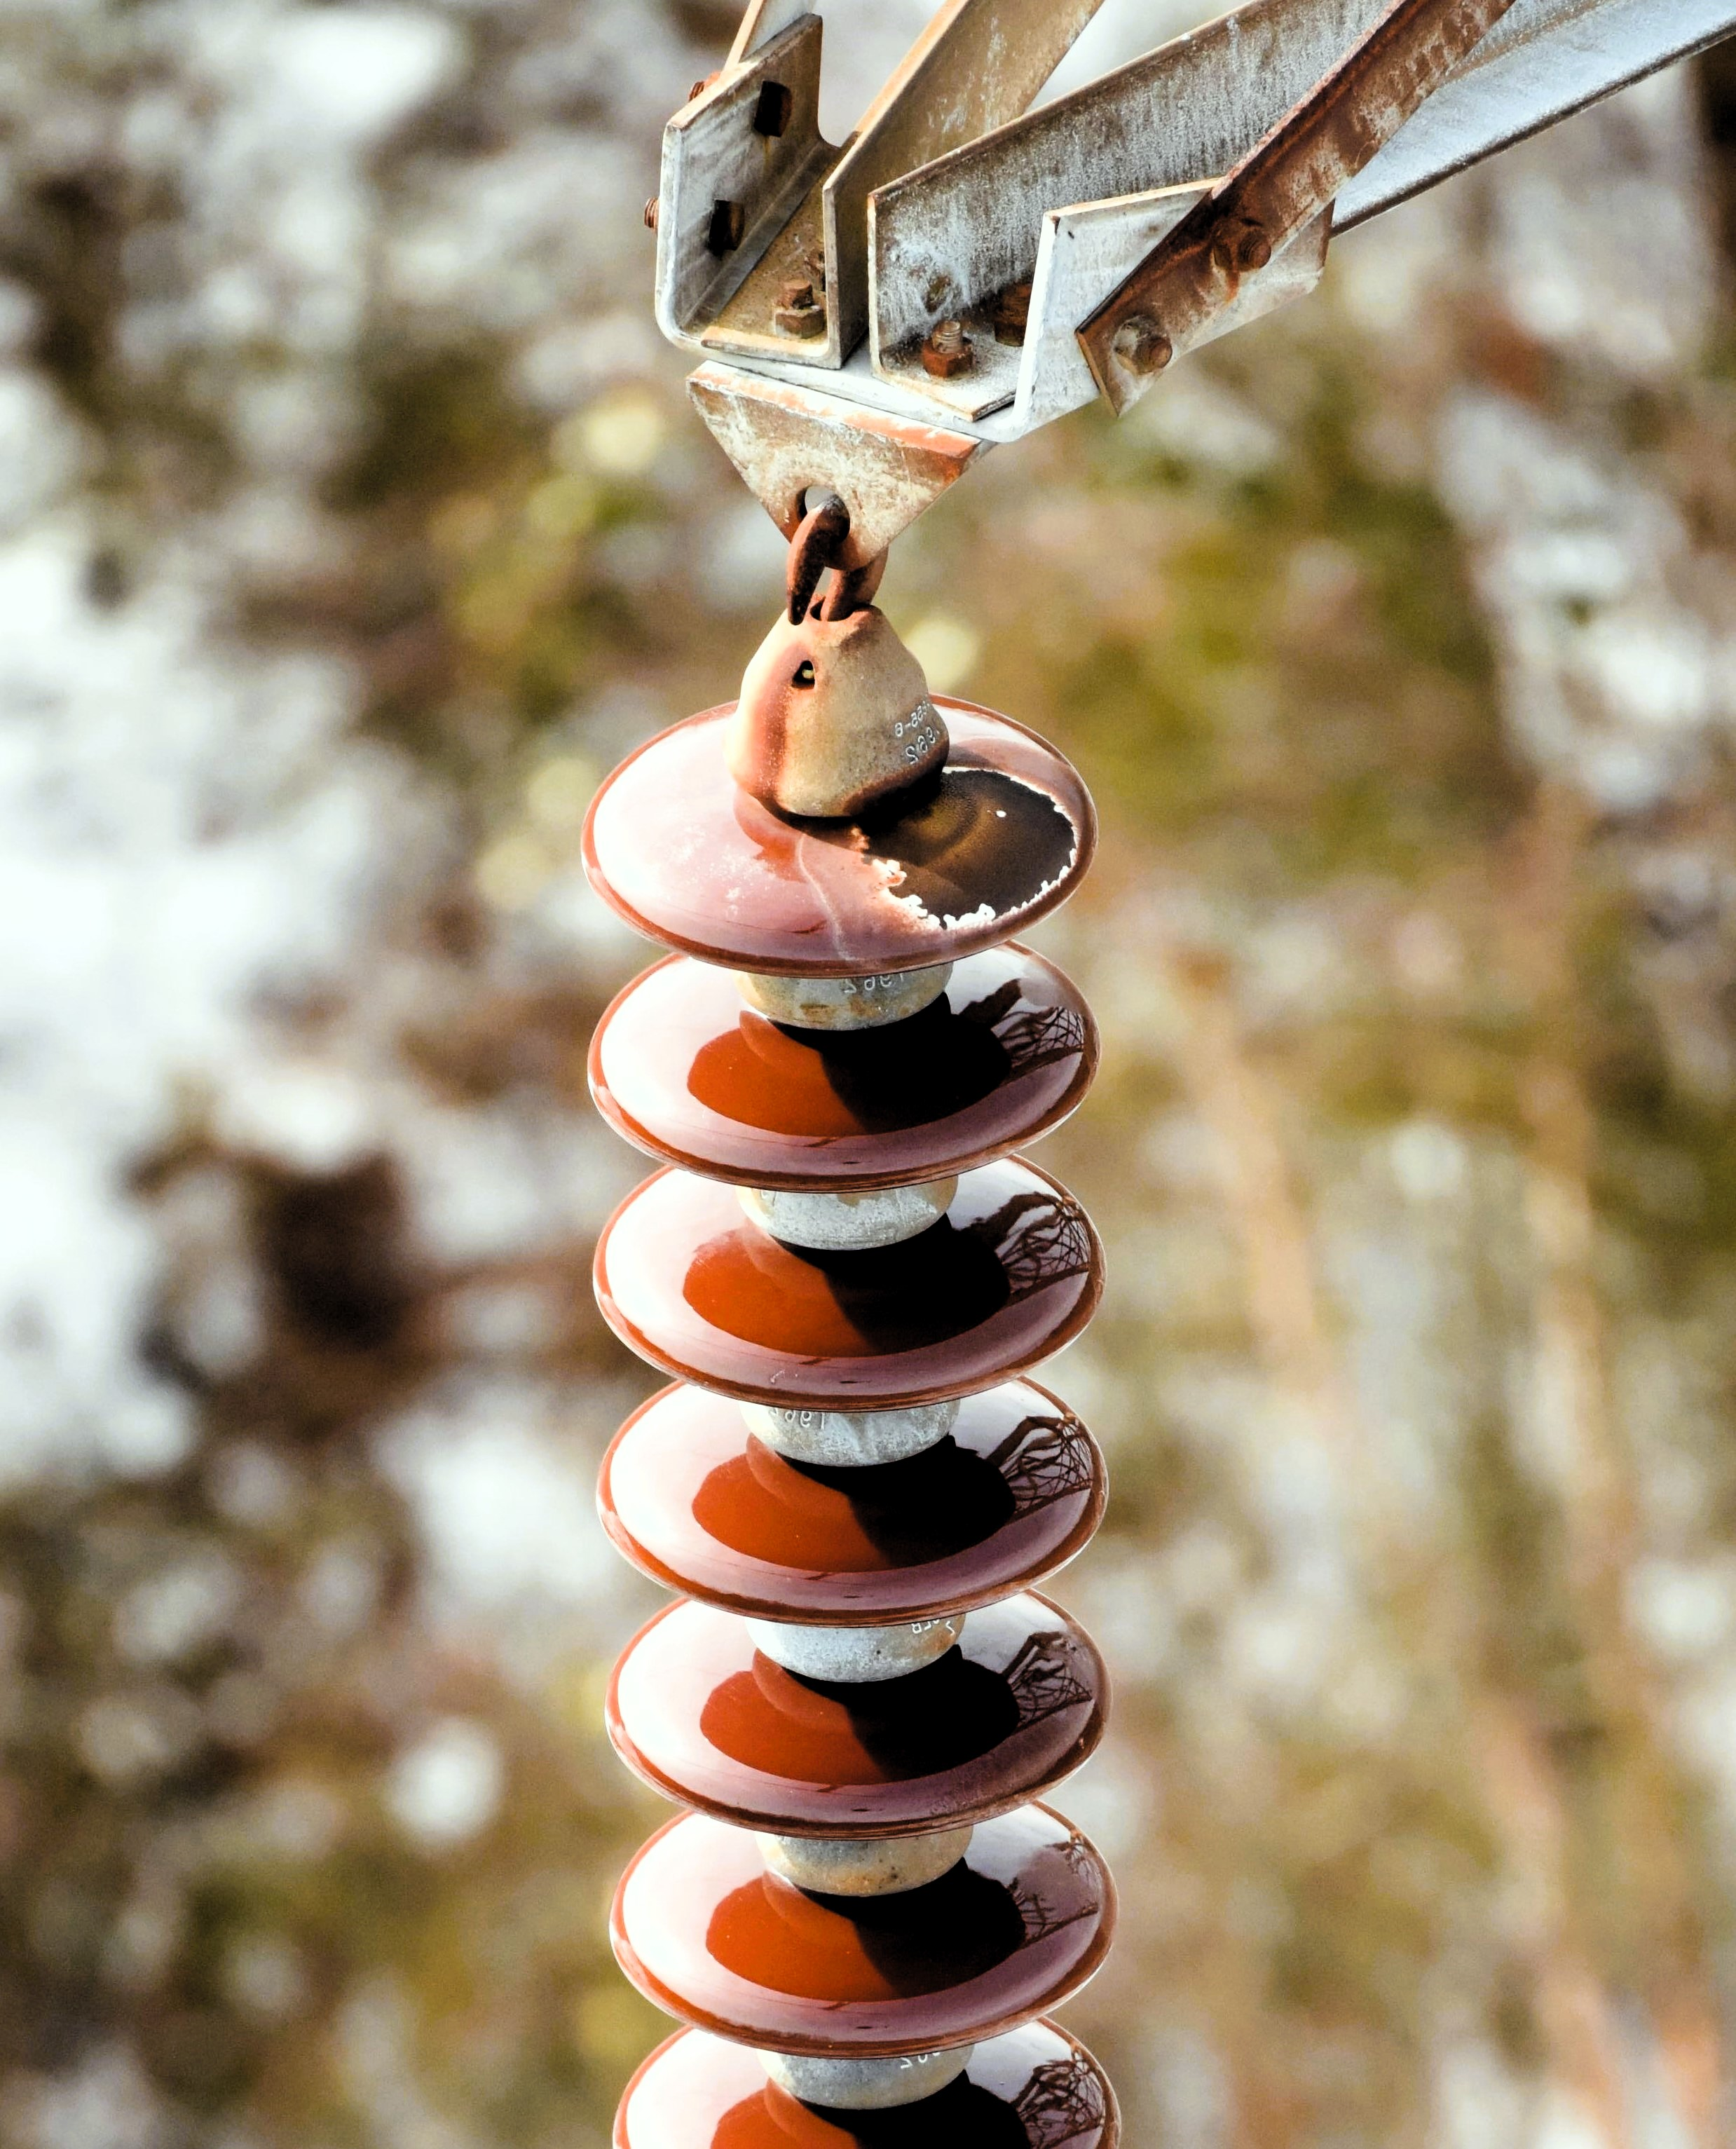Insulator flashover: (574, 656, 1105, 985)
